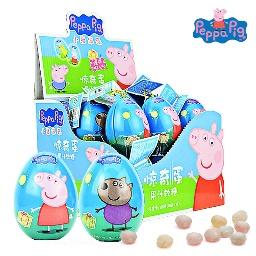Peppa: (188, 123, 226, 210), (30, 169, 77, 236), (106, 44, 137, 92)
